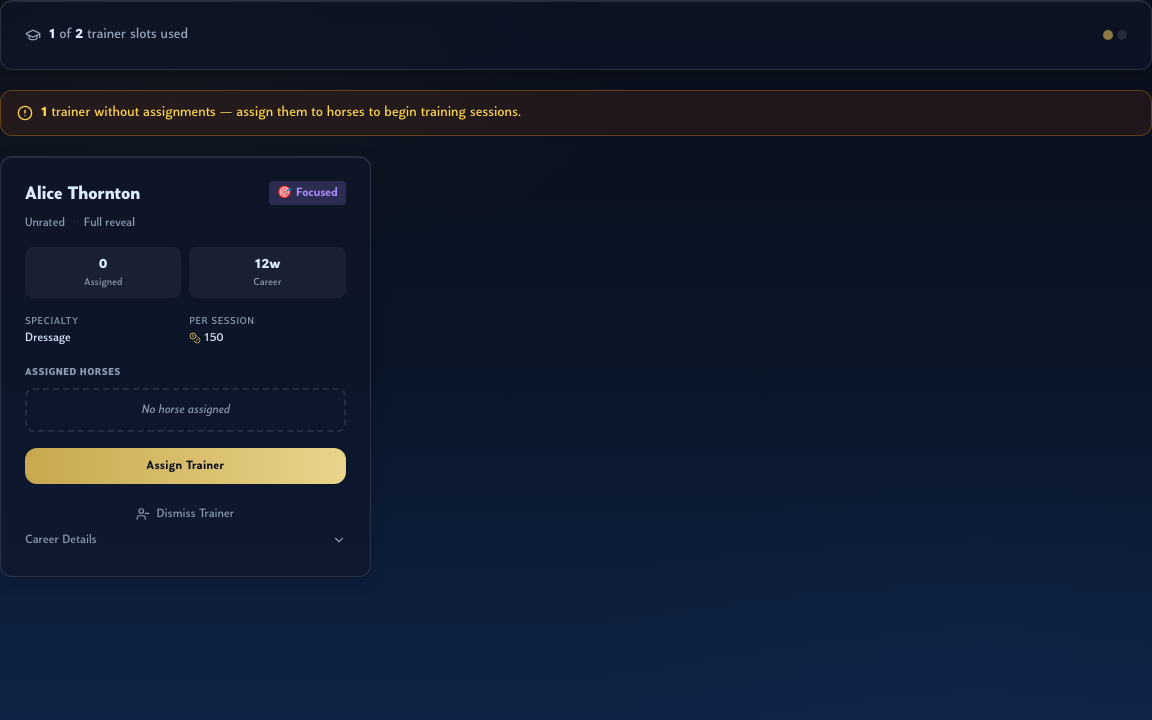
a retired horse refused for staff (Equoria-70gu6) › the trainer dashboard names the refusal
Click the button with test id "assign-button-10" at (185, 466), box [25,448,346,484]
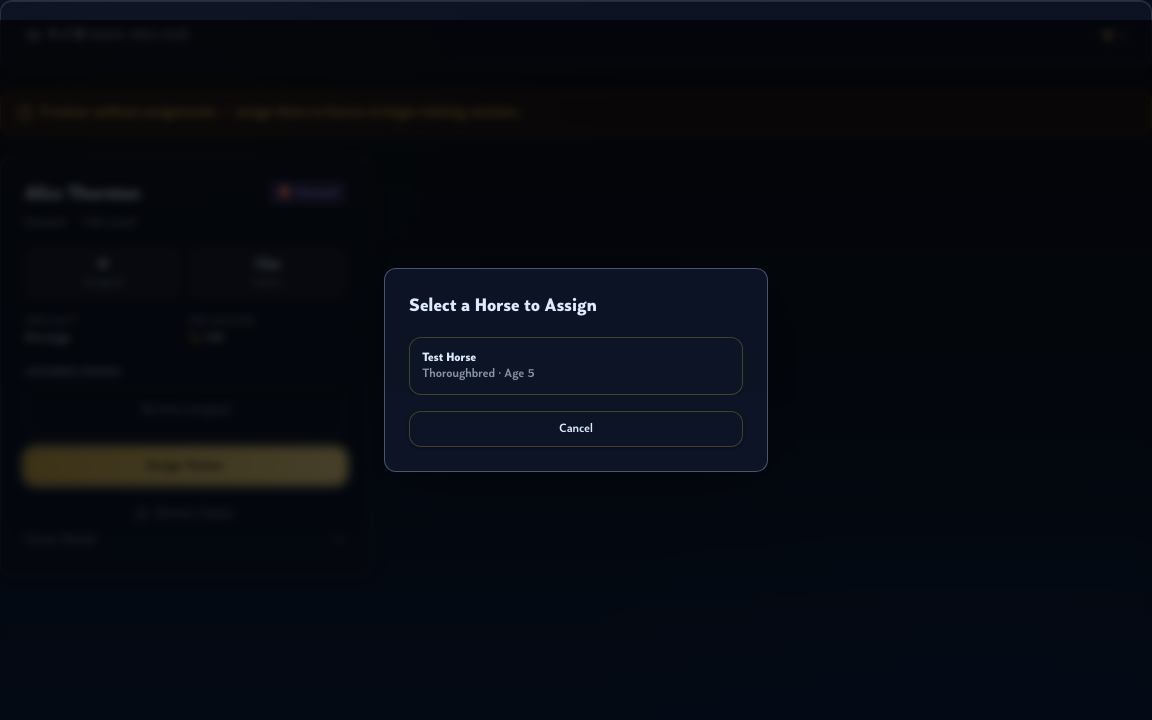
Click the button "Test Horse Thoroughbred · Age 5" at (449, 358), box [409,337,743,395]
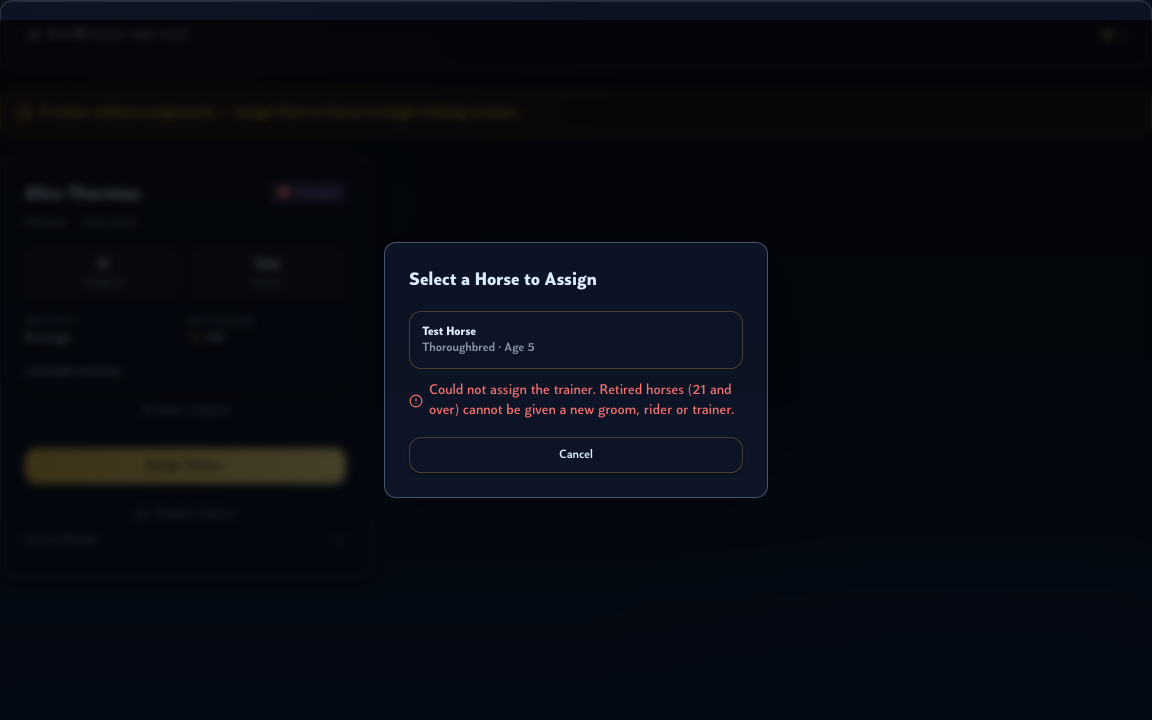
Result: the text "retired horses (21 and over) cannot be given a new groom, rider or trainer" is shown at [429,383,734,418]
